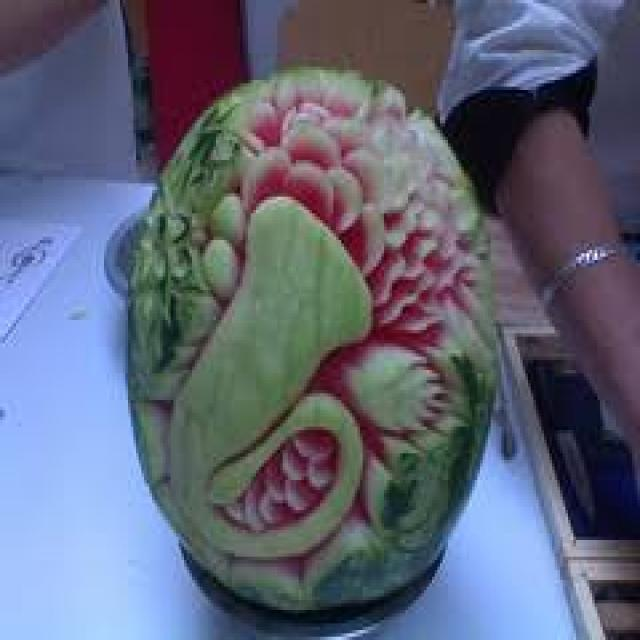organic waste: (122, 63, 490, 610)
